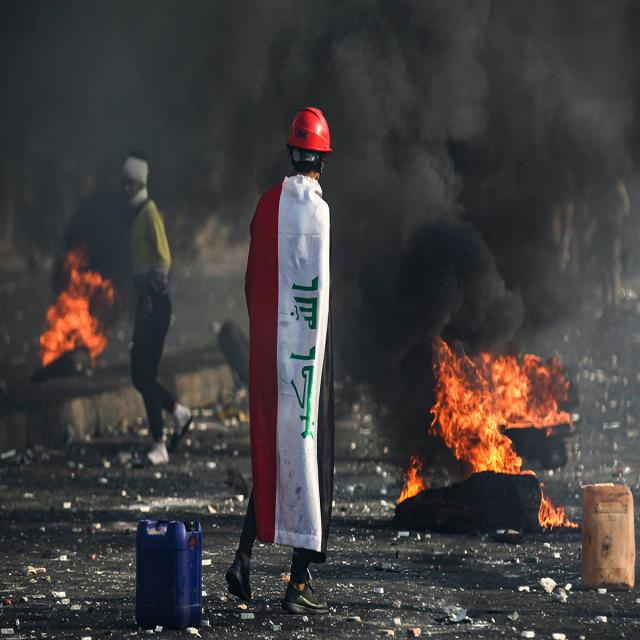fire: (430, 338, 536, 474), (37, 247, 114, 368), (481, 354, 572, 429), (395, 451, 425, 504), (538, 493, 580, 529)
